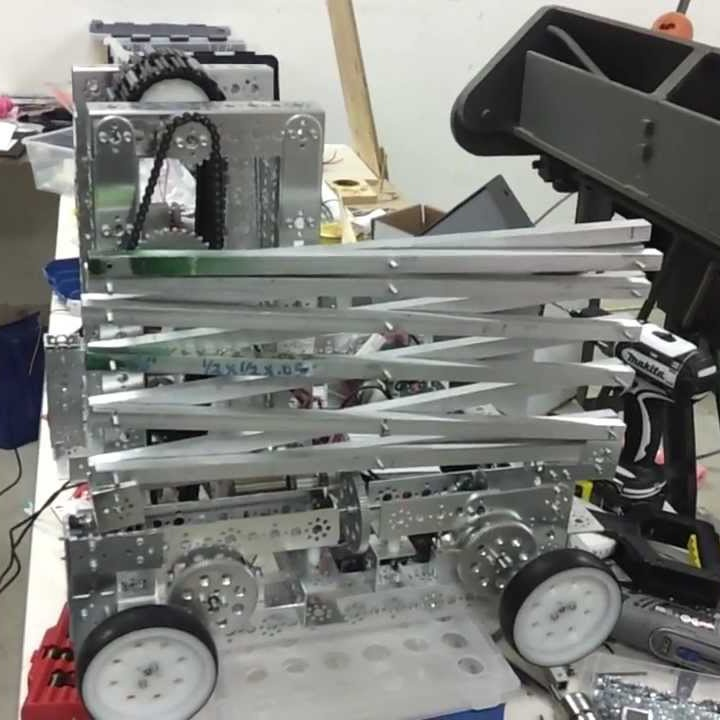robot: (43, 37, 668, 720)
